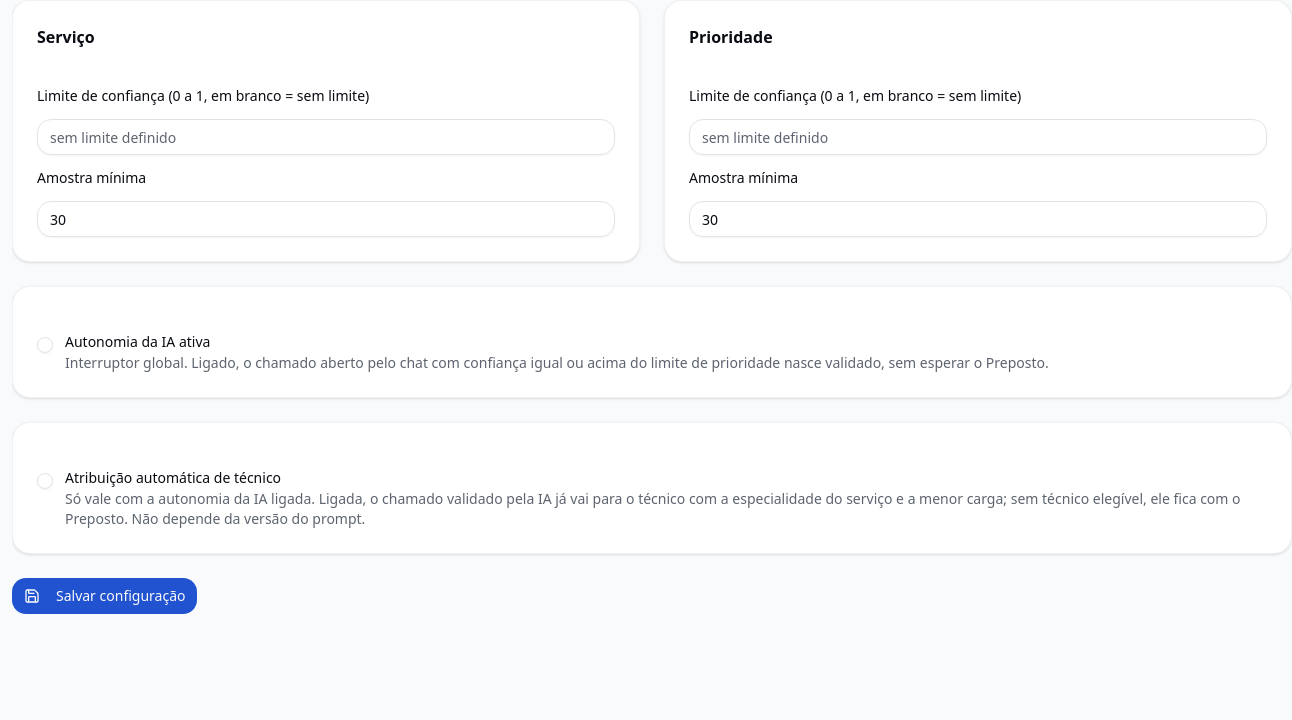
Test case: IaConfiancaForm · validação › recusa um limite de confiança fora de 0 a 1, sem gravar
Type "1.5" into the 1st number field labelled "Limite de confiança (0 a 1, em branco = sem limite)" at point(326, 137), box [37,119,615,155]
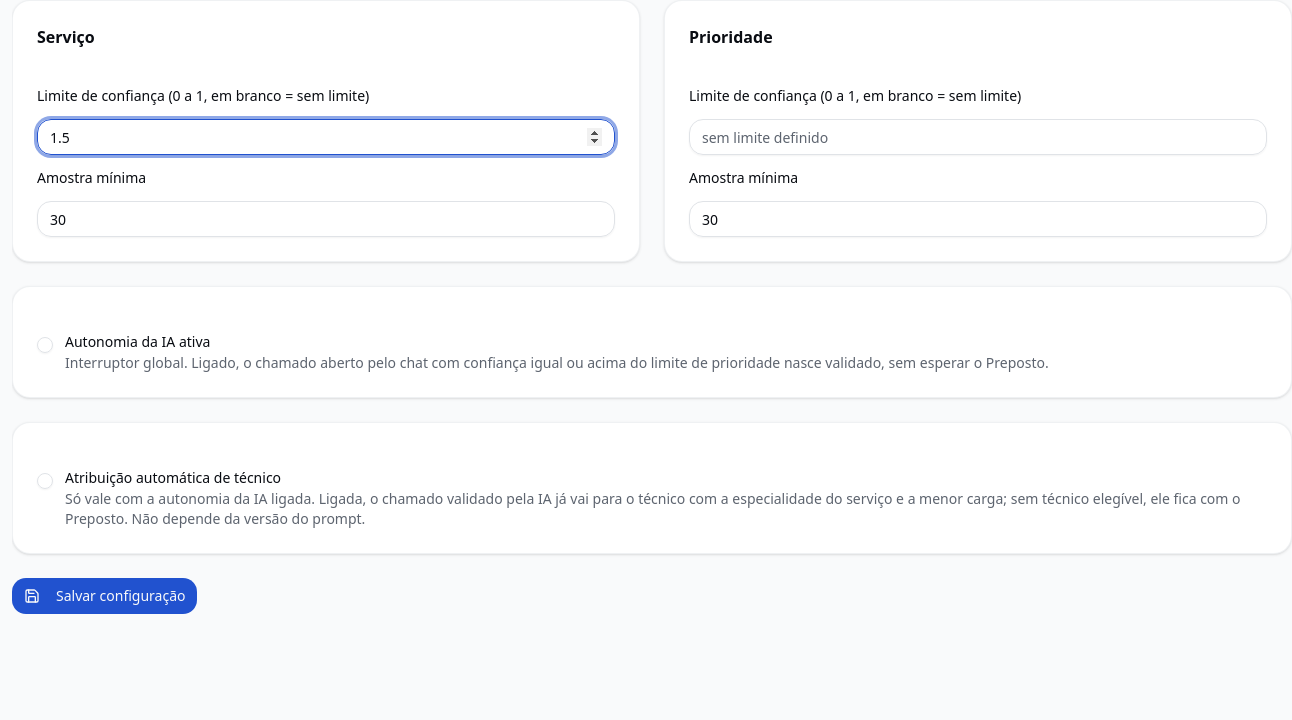
Click the button "Salvar configuração" at point(105, 596), box [12,578,198,614]
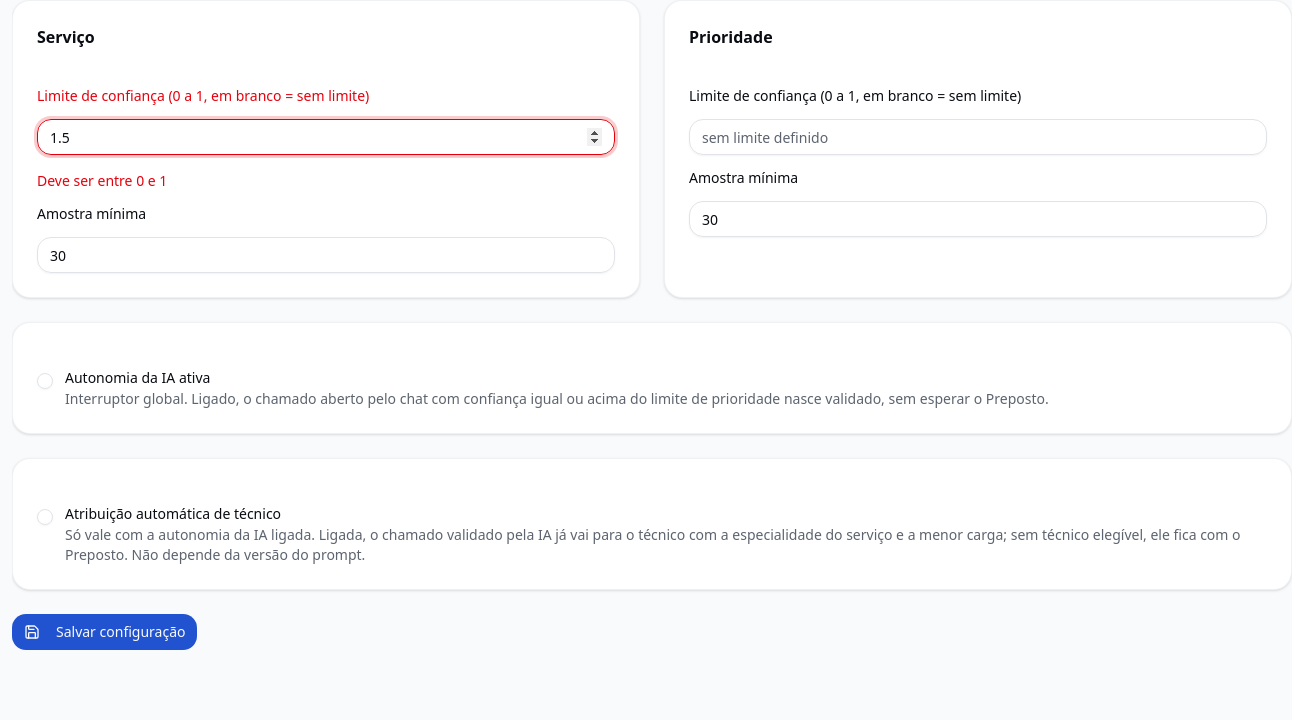
Expected: the text "Deve ser entre 0 e 1" is shown, [37,171,167,190]
